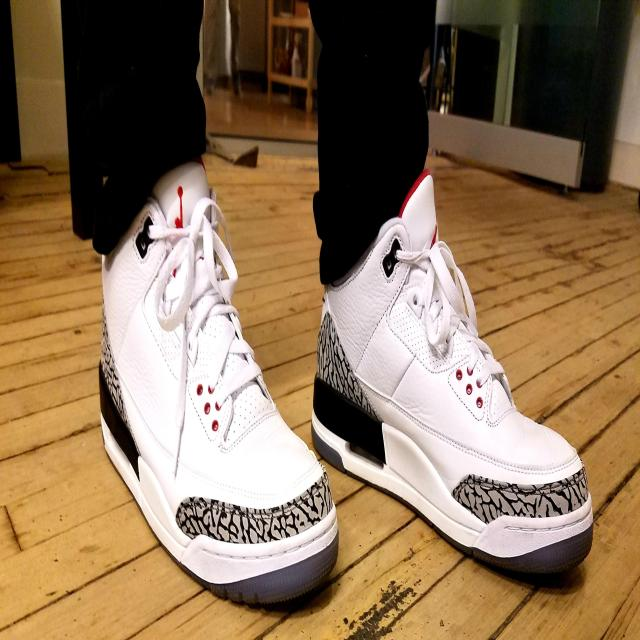shoe: (315, 174, 598, 576), (97, 164, 340, 605)
